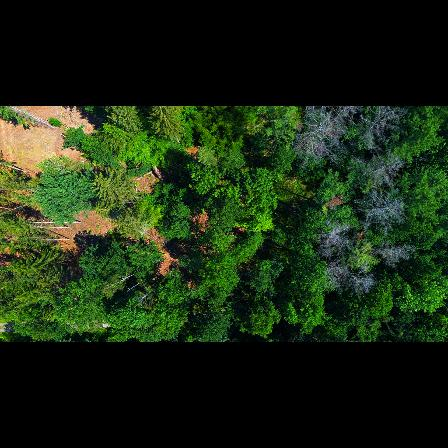Dead: (346, 107, 407, 150), (292, 108, 338, 161), (317, 255, 371, 294), (351, 195, 406, 229), (369, 238, 420, 268), (312, 220, 352, 252)
